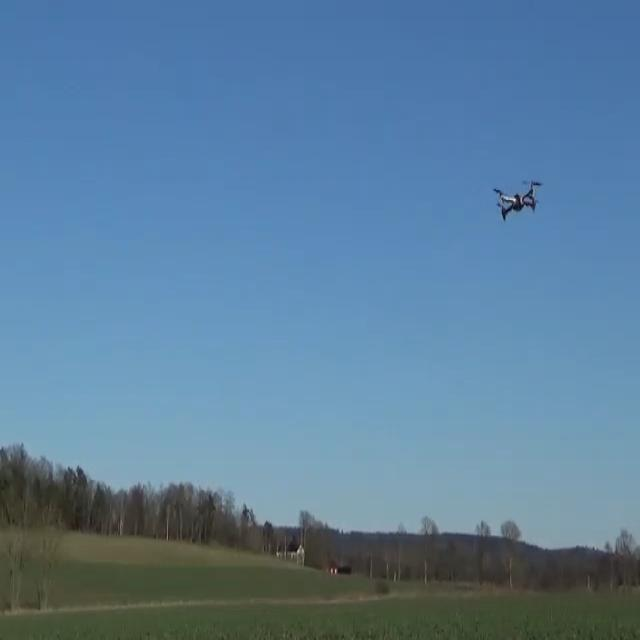Drone: (479, 165, 554, 228)
